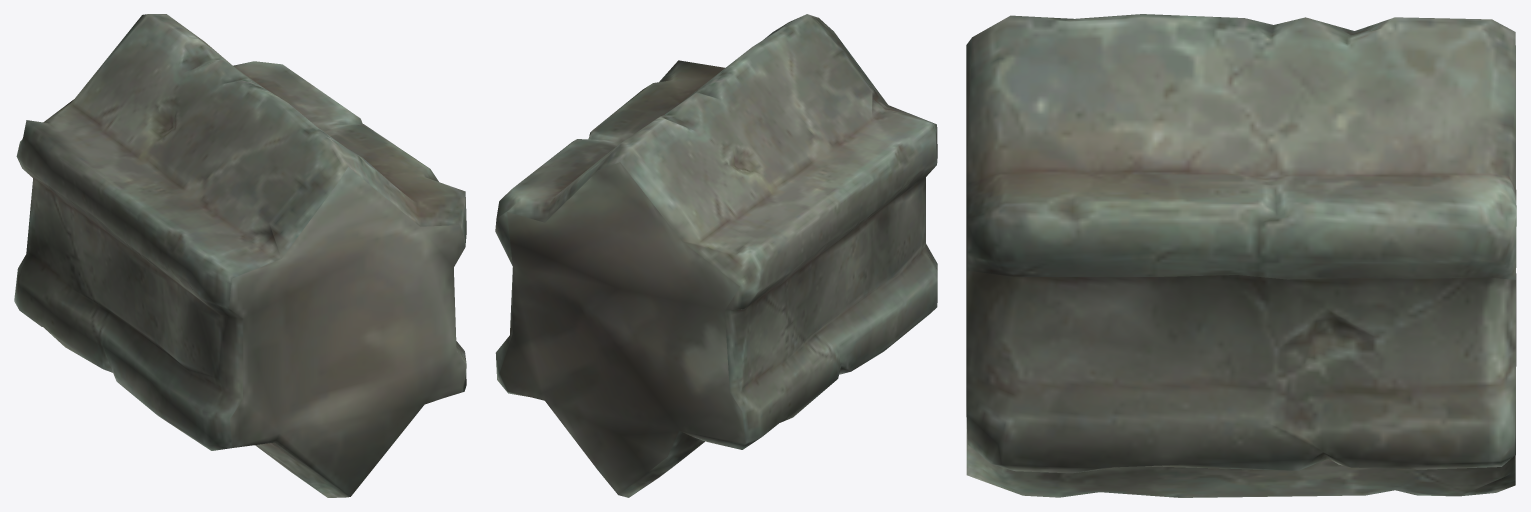
The model's file is Ruins_Pillar_4m_A.obj.
3 views of the same model, side by side, from view 1: azimuth 30°, elevation 25°; view 2: azimuth 150°, elevation 25°; view 3: azimuth 270°, elevation 25° (orthographic). The views are drawn at different scales.
Visible parts, largest first — view 1: Dn_HL_Ruins_Pillar_4m_A; view 2: Dn_HL_Ruins_Pillar_4m_A; view 3: Dn_HL_Ruins_Pillar_4m_A.
Part boxes in pixels (x1,y1,x2,y2): Dn_HL_Ruins_Pillar_4m_A: [14, 14, 466, 497]; Dn_HL_Ruins_Pillar_4m_A: [495, 14, 937, 497]; Dn_HL_Ruins_Pillar_4m_A: [966, 14, 1516, 497].
Size of the model in its own units: 3 by 3.86 by 4.01.
